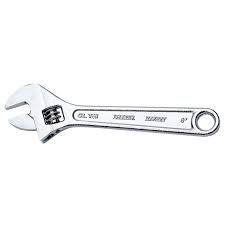wrench: (4, 79, 221, 147)
